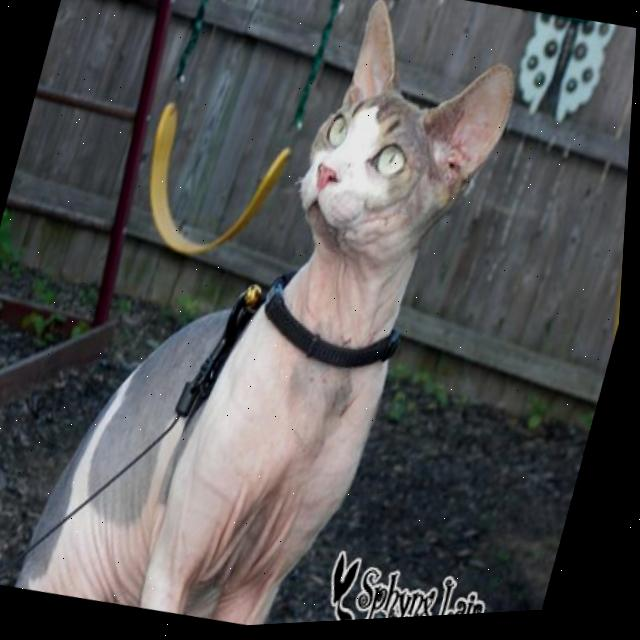Sphynx: (13, 0, 538, 638)
